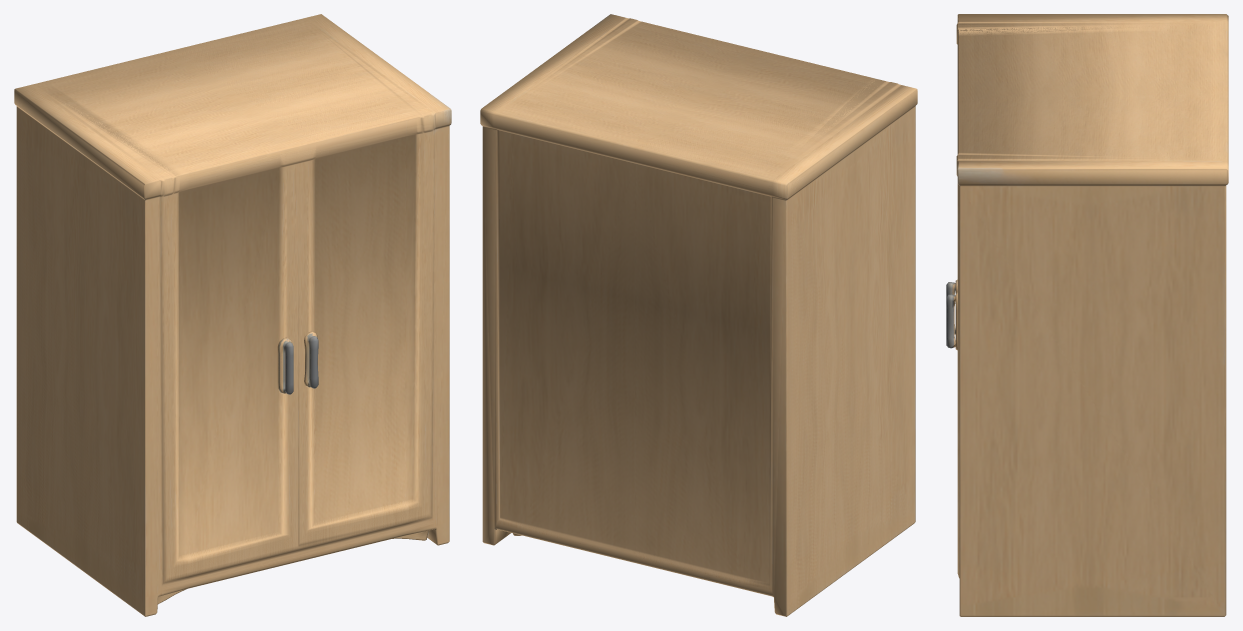
File: Meshy_AI_A_stylized_low_poly_w_0428230929_texture.fbx
The picture shows the model from 3 angles, left to right: view 1: azimuth 30°, elevation 25°; view 2: azimuth 150°, elevation 25°; view 3: azimuth 270°, elevation 25°; orthographic projection. The views are drawn at different scales.
Visible parts, largest first — view 1: Mesh_0; view 2: Mesh_0; view 3: Mesh_0.
Part boxes in pixels (x1,y1,x2,y2): Mesh_0: (14,14,451,616); Mesh_0: (480,14,917,616); Mesh_0: (946,14,1228,616).
Bounding box in the file's own units: 141 × 191 × 108.
1 material, 1 textured.
